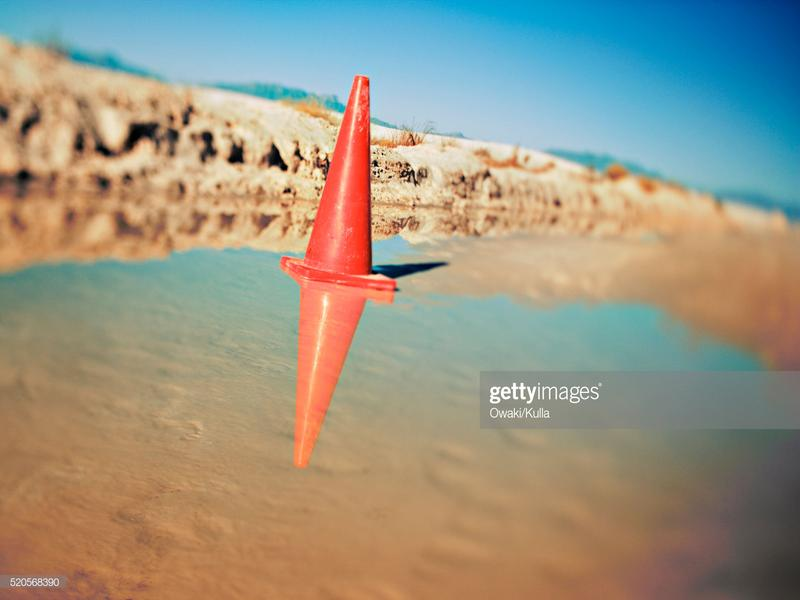Cone: (280, 74, 398, 292)
